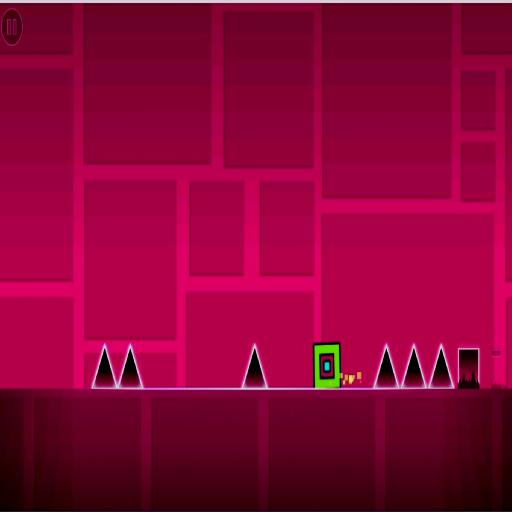block: (456, 345, 480, 388), (490, 347, 504, 358)
player: (314, 344, 340, 387)
spike: (429, 344, 454, 388), (374, 343, 398, 388), (243, 343, 267, 387), (402, 344, 425, 388), (119, 345, 143, 387), (93, 345, 117, 387)
